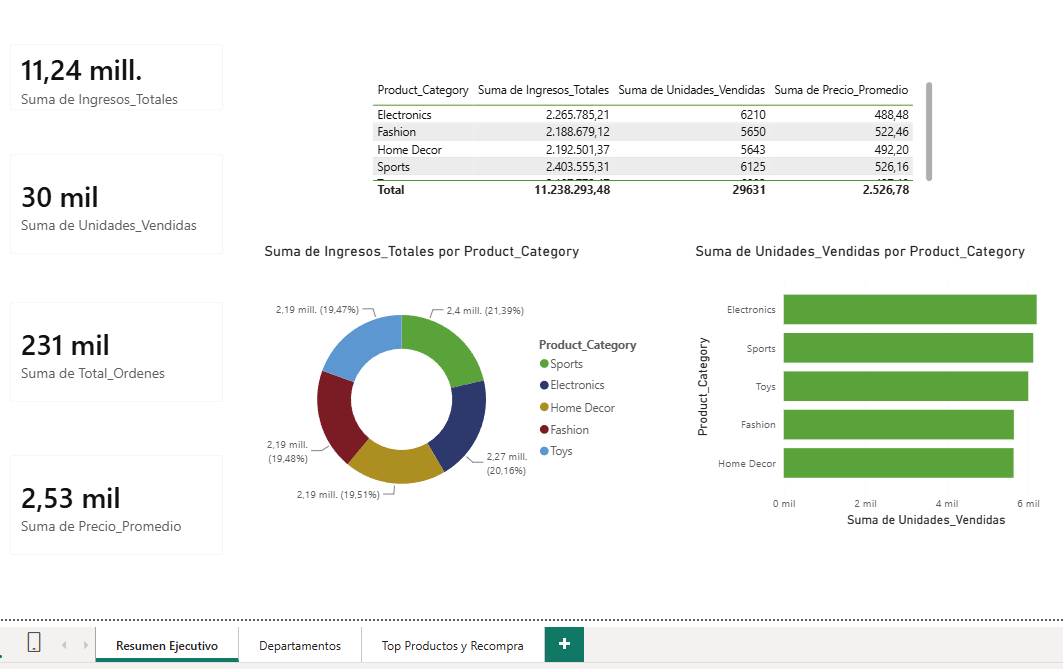

What the dashboard file says about the page in this screenshot:
{"tool":"powerbi","page":{"name":"Resumen Ejecutivo","canvas":[1280,720],"ordinal":0},"visuals":[{"type":"donutChart","fields":{"Category":["kpi_ventas_ecommerce.Product_Category"],"Y":["Sum(kpi_ventas_ecommerce.Ingresos_Totales)"]},"box":[306.1,284.4,453.8,333.2],"z":0},{"type":"clusteredBarChart","fields":{"Category":["kpi_ventas_ecommerce.Product_Category"],"Y":["Sum(kpi_ventas_ecommerce.Unidades_Vendidas)"]},"box":[803.2,284.4,454,333],"z":1000},{"type":"tableEx","fields":{"Values":["kpi_ventas_ecommerce.Product_Category","Sum(kpi_ventas_ecommerce.Ingresos_Totales)","Sum(kpi_ventas_ecommerce.Unidades_Vendidas)","Sum(kpi_ventas_ecommerce.Precio_Promedio)"]},"box":[430.7,94.8,656.9,143.6],"z":2000},{"type":"cardVisual","fields":{"Data":["Sum(kpi_ventas_ecommerce.Ingresos_Totales)"]},"box":[0,39.3,280.4,111.1],"z":3000},{"type":"cardVisual","fields":{"Data":["Sum(kpi_ventas_ecommerce.Unidades_Vendidas)"]},"box":[0,166.6,280.4,150.3],"z":4000},{"type":"cardVisual","fields":{"Data":["Sum(kpi_pedidos_por_departamento_aisle.Total_Ordenes)"]},"box":[0,337.3,280.4,150.3],"z":5000},{"type":"cardVisual","fields":{"Data":["Sum(kpi_ventas_ecommerce.Precio_Promedio)"]},"box":[0,513.4,280.4,150.3],"z":6000}]}

Visuals, with their boxes on the page's 1280x720 design canvas (x1, y1, x2, y2). These are canvas units, not pixel positions in the 1063x669 screenshot, which may show the page scaled, cropped or inside an application window:
donutChart - kpi_ventas_ecommerce.Product_Category x Sum(kpi_ventas_ecommerce.Ingresos_Totales): <region>306, 284, 760, 618</region>
clusteredBarChart - kpi_ventas_ecommerce.Product_Category x Sum(kpi_ventas_ecommerce.Unidades_Vendidas): <region>803, 284, 1257, 617</region>
tableEx - kpi_ventas_ecommerce.Product_Category x Sum(kpi_ventas_ecommerce.Ingresos_Totales): <region>431, 95, 1088, 238</region>
cardVisual - Sum(kpi_ventas_ecommerce.Ingresos_Totales): <region>0, 39, 280, 150</region>
cardVisual - Sum(kpi_ventas_ecommerce.Unidades_Vendidas): <region>0, 167, 280, 317</region>
cardVisual - Sum(kpi_pedidos_por_departamento_aisle.Total_Ordenes): <region>0, 337, 280, 488</region>
cardVisual - Sum(kpi_ventas_ecommerce.Precio_Promedio): <region>0, 513, 280, 664</region>
